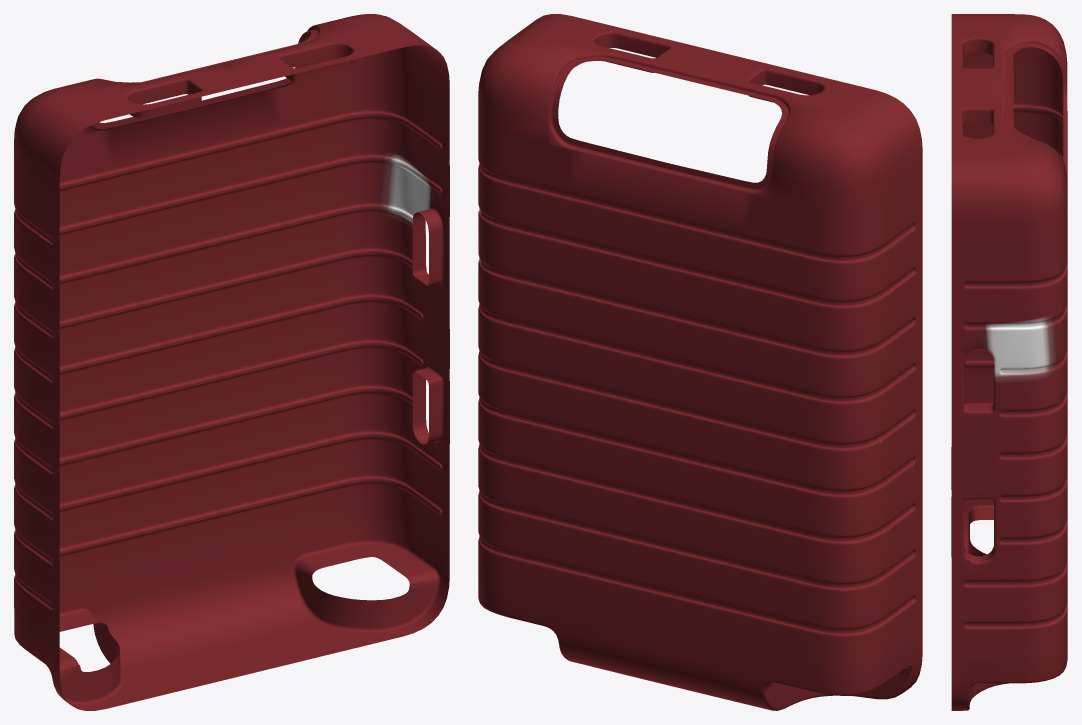
File: Suitcase_BodyBack_3.0_Interior.fbx
3 renders of one model, left to right at view 1: azimuth 30°, elevation 25°; view 2: azimuth 150°, elevation 25°; view 3: azimuth 270°, elevation 25°, orthographic. The views are drawn at different scales.
Parts seen in each view (by area): view 1: shellBack_mesh.001; view 2: shellBack_mesh.001; view 3: shellBack_mesh.001.
Boxes of the visible parts, box(x1,y1,x2,y2) form: shellBack_mesh.001: box(14, 14, 449, 710); shellBack_mesh.001: box(478, 14, 922, 710); shellBack_mesh.001: box(951, 14, 1067, 710).
Size of the model in its own units: 37.24 by 53.72 by 10.31.
Materials: 1 (1 with a texture image).
